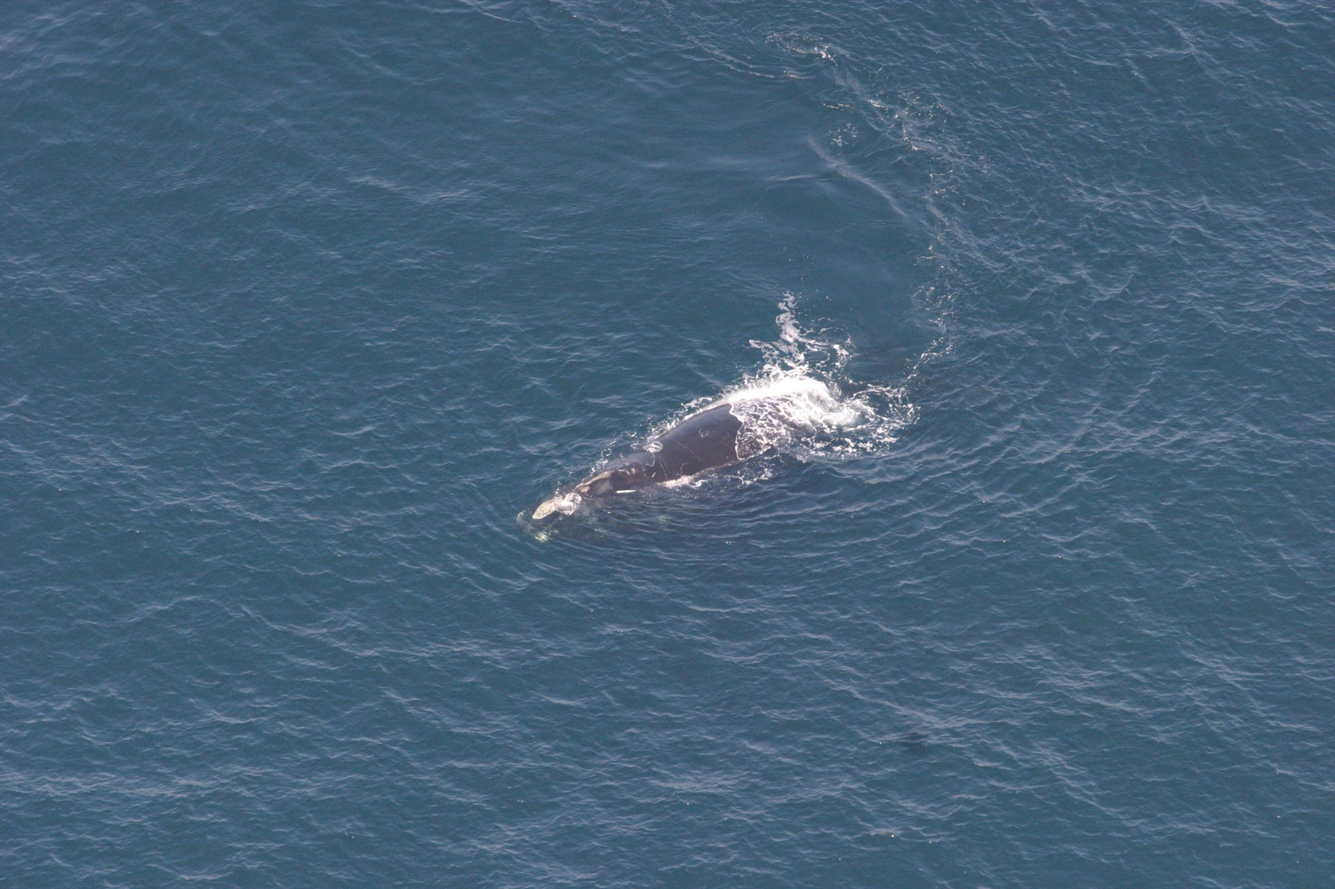whale: (507, 362, 898, 557)
